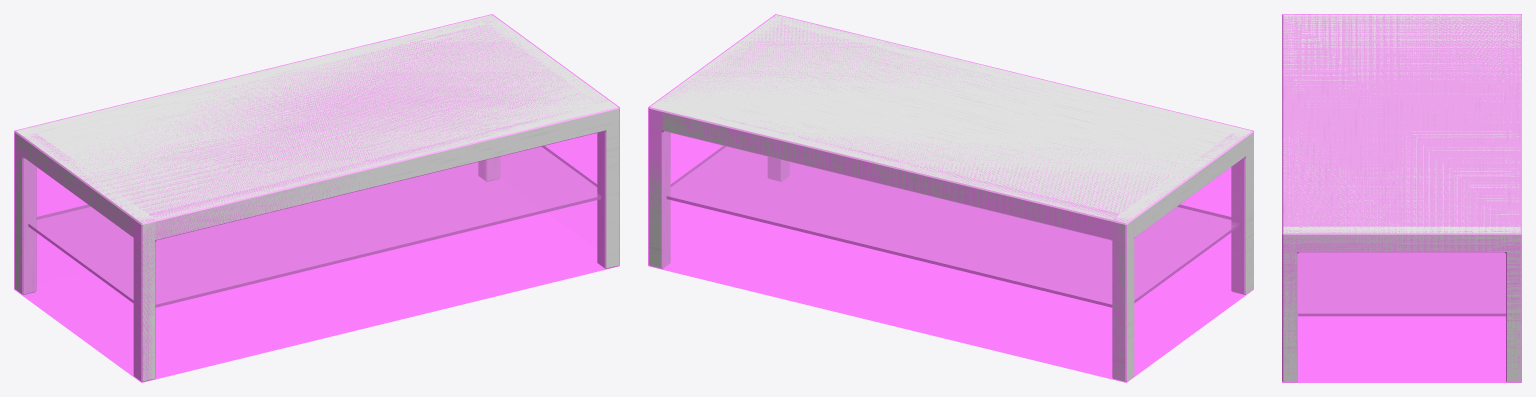
File: sidetable_A.fbx
The picture shows the model from 3 angles, left to right: view 1: azimuth 30°, elevation 25°; view 2: azimuth 150°, elevation 25°; view 3: azimuth 270°, elevation 25°; orthographic projection. The views are drawn at different scales.
Visible parts, largest first — view 1: sidetable_A, boundingbox; view 2: sidetable_A, boundingbox; view 3: boundingbox, sidetable_A.
Part boxes in pixels (bbox=[...]): sidetable_A: bbox=[14, 15, 619, 381]; boundingbox: bbox=[14, 14, 619, 382]; sidetable_A: bbox=[648, 15, 1253, 381]; boundingbox: bbox=[648, 14, 1253, 382]; boundingbox: bbox=[1282, 14, 1521, 382]; sidetable_A: bbox=[1282, 14, 1521, 382].
Bounding box in the file's own units: 130 × 41.27 × 60.
Materials: 4 (1 with a texture image).
